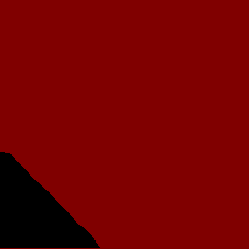Sky: (1, 1, 248, 248)
